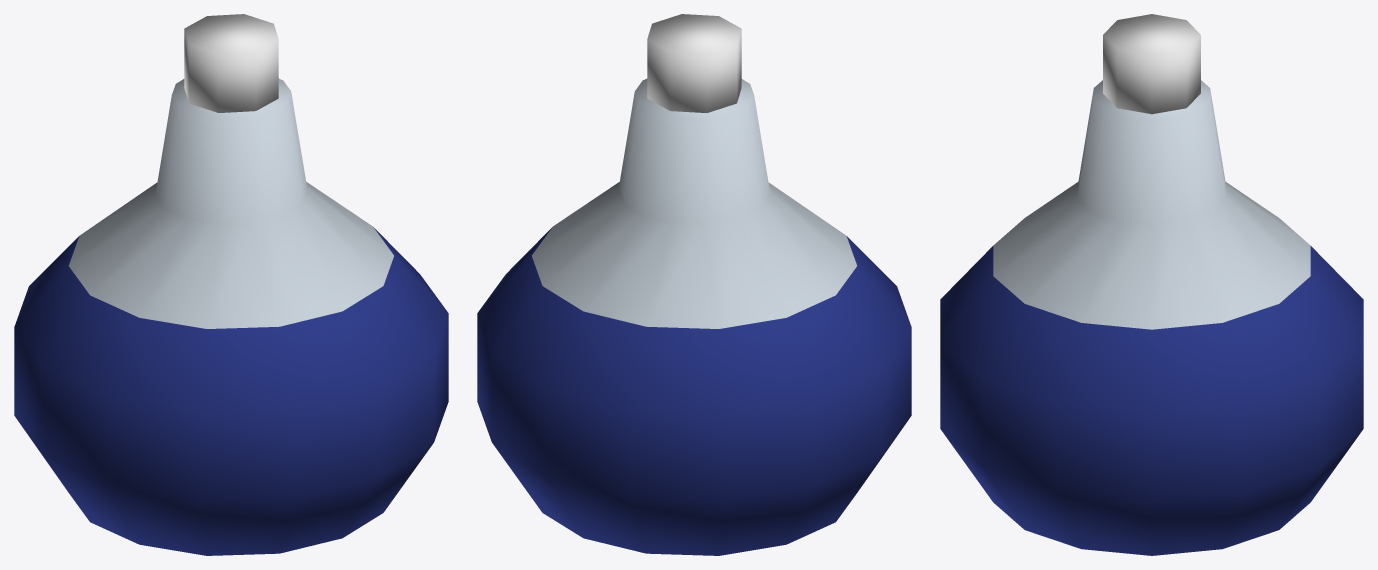
Rendered from time_hair_dye.glb.
3 renders of one model, left to right at view 1: azimuth 30°, elevation 25°; view 2: azimuth 150°, elevation 25°; view 3: azimuth 270°, elevation 25°, orthographic.
Visible parts, largest first — view 1: time_hair_dye_v0; view 2: time_hair_dye_v0; view 3: time_hair_dye_v0.
Boxes of the visible parts, x1,y1,x2,y2 form: time_hair_dye_v0: (14, 14, 448, 555); time_hair_dye_v0: (477, 14, 911, 555); time_hair_dye_v0: (940, 14, 1363, 555).
Bounding box in the file's own units: 0.24 × 0.276 × 0.234.
